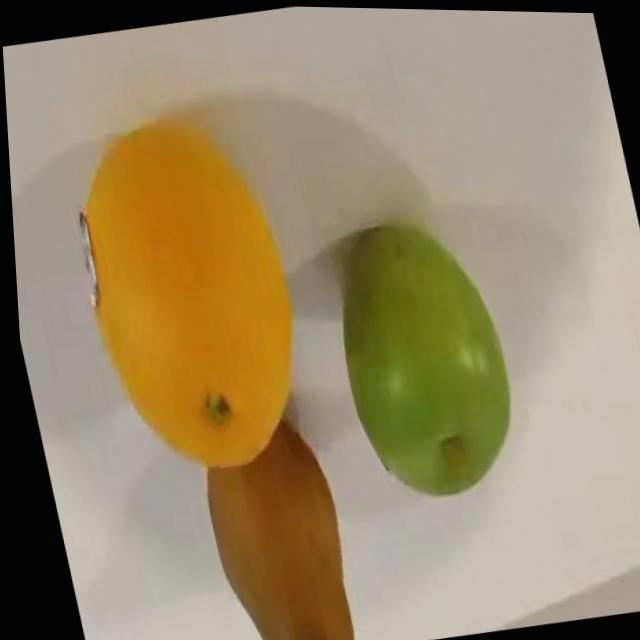Apple: (312, 209, 527, 509)
Orange: (53, 107, 321, 486)
